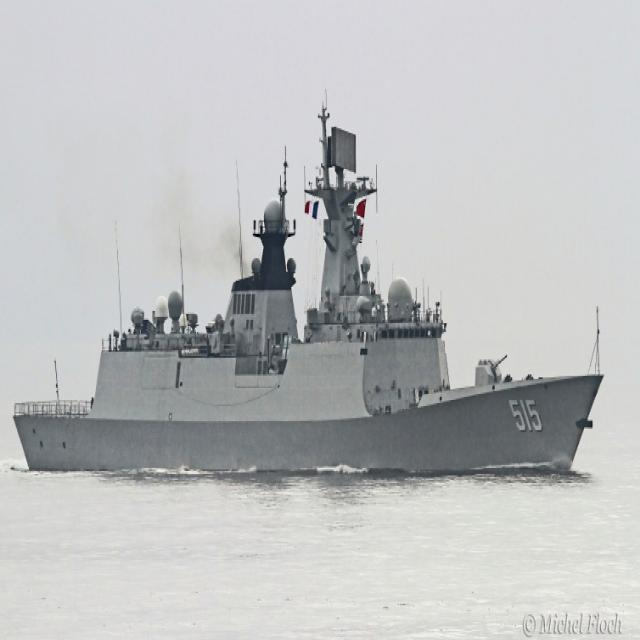Fragata: (7, 77, 610, 486)
